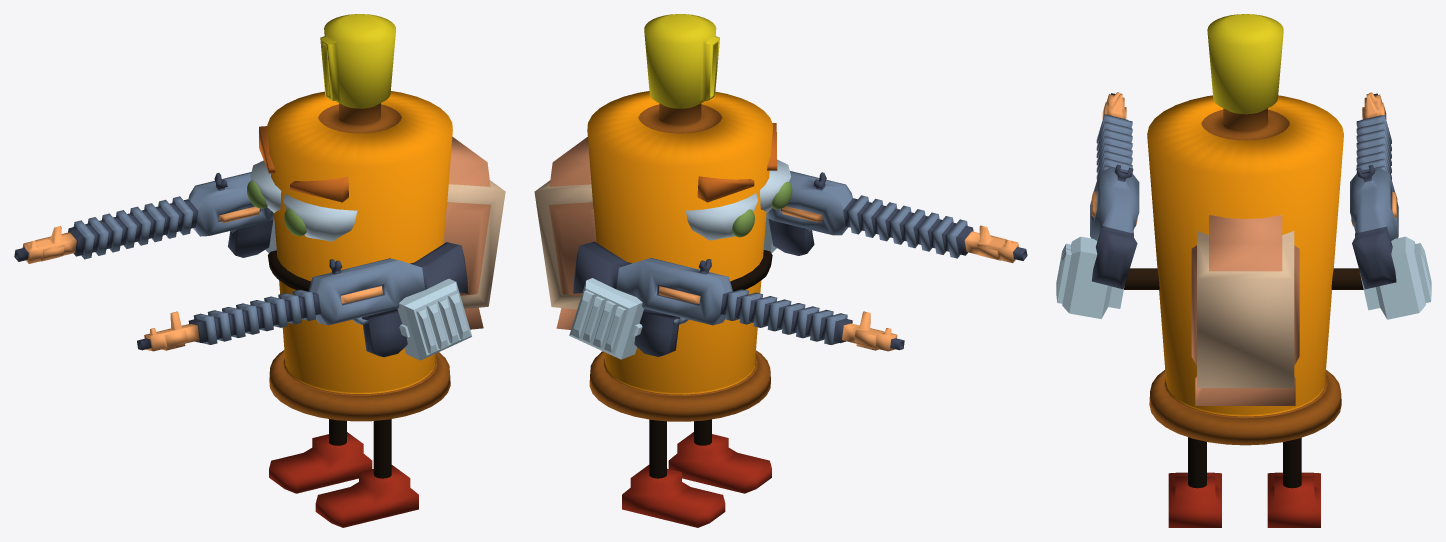
The model's file is CanMan3D.fbx.
The picture shows the model from 3 angles, left to right: view 1: azimuth 30°, elevation 25°; view 2: azimuth 150°, elevation 25°; view 3: azimuth 270°, elevation 25°; orthographic projection. The views are drawn at different scales.
Visible parts, largest first — view 1: CanMan; view 2: CanMan; view 3: CanMan.
Part boxes in pixels (box(x1,y1,x2,y2)): CanMan: box(14, 14, 505, 527); CanMan: box(534, 14, 1027, 527); CanMan: box(1056, 14, 1431, 527).
Bounding box in the file's own units: 870 × 957 × 660.
